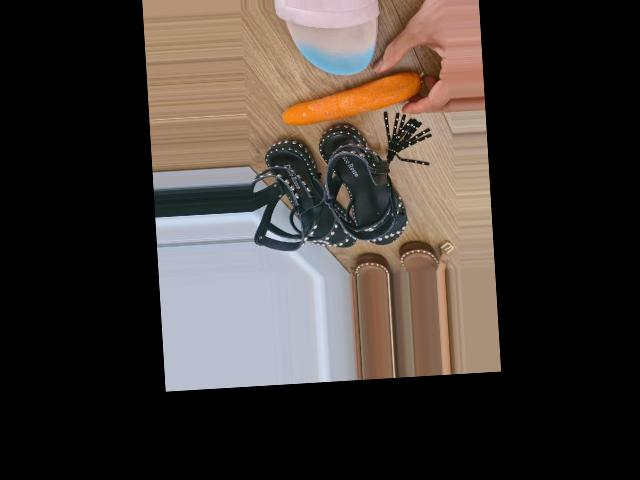carrot: (279, 70, 423, 127)
